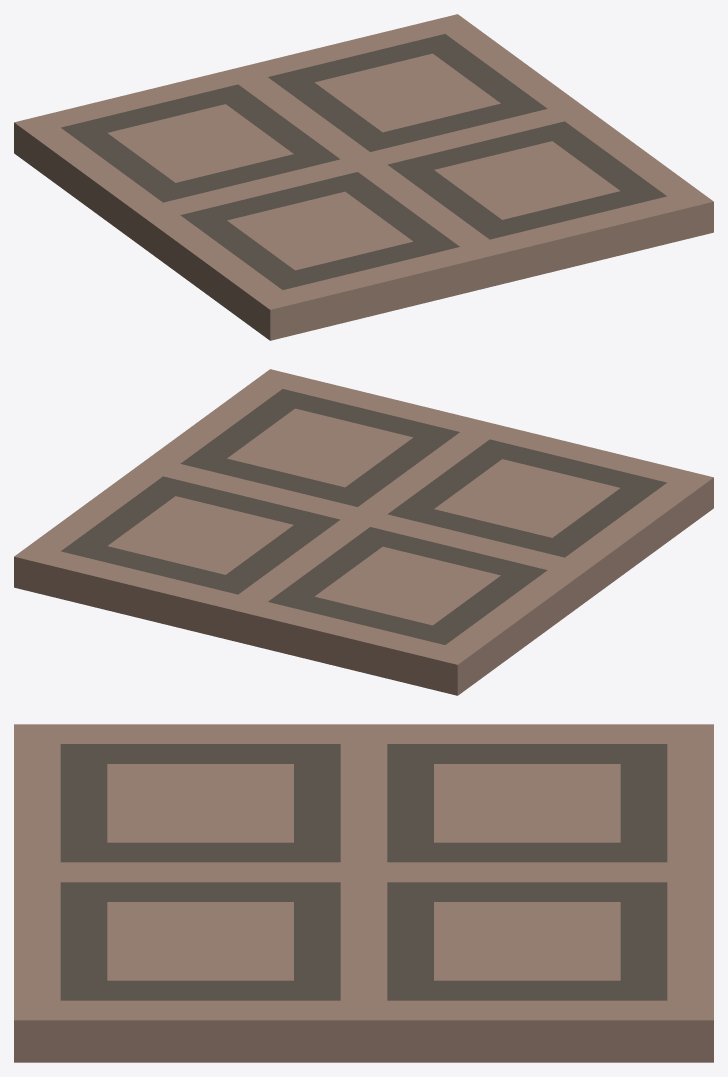
The model's file is dungeon_a_b_ground_c_a.obj.
3 renders of one model, top to bottom at view 1: azimuth 30°, elevation 25°; view 2: azimuth 150°, elevation 25°; view 3: azimuth 270°, elevation 25°, orthographic. The views are drawn at different scales.
Size of the model in its own units: 1.5 by 0.1 by 1.5.
1 material, 1 textured.
